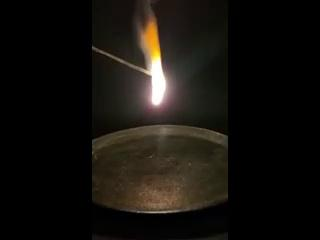Fire: (136, 9, 167, 108)
